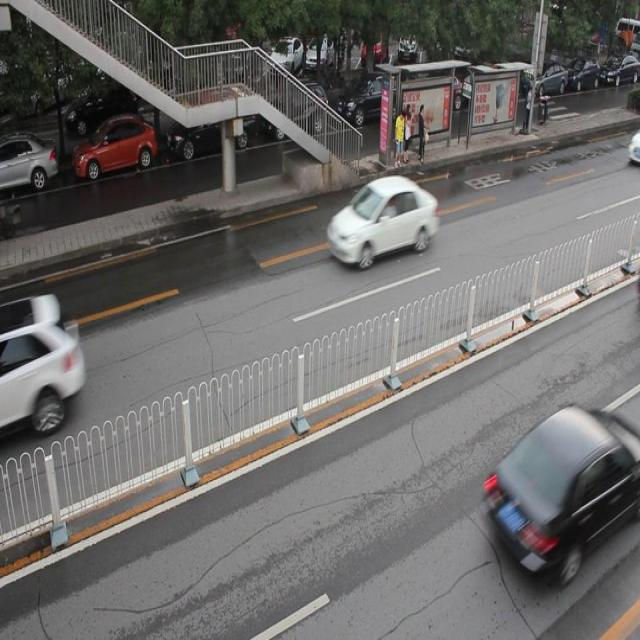car: (484, 405, 640, 579), (0, 300, 86, 430), (326, 176, 438, 265), (166, 89, 256, 155), (74, 118, 160, 181), (335, 71, 408, 127), (263, 81, 331, 141), (1, 134, 60, 193)
